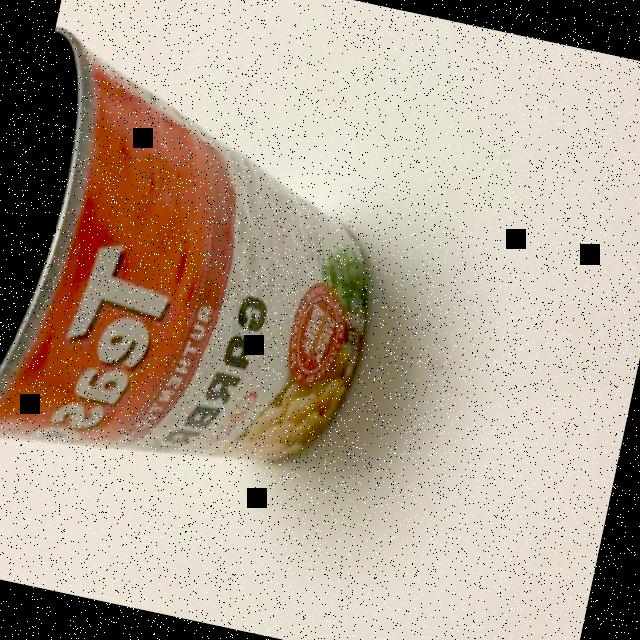can: (0, 21, 416, 515)
